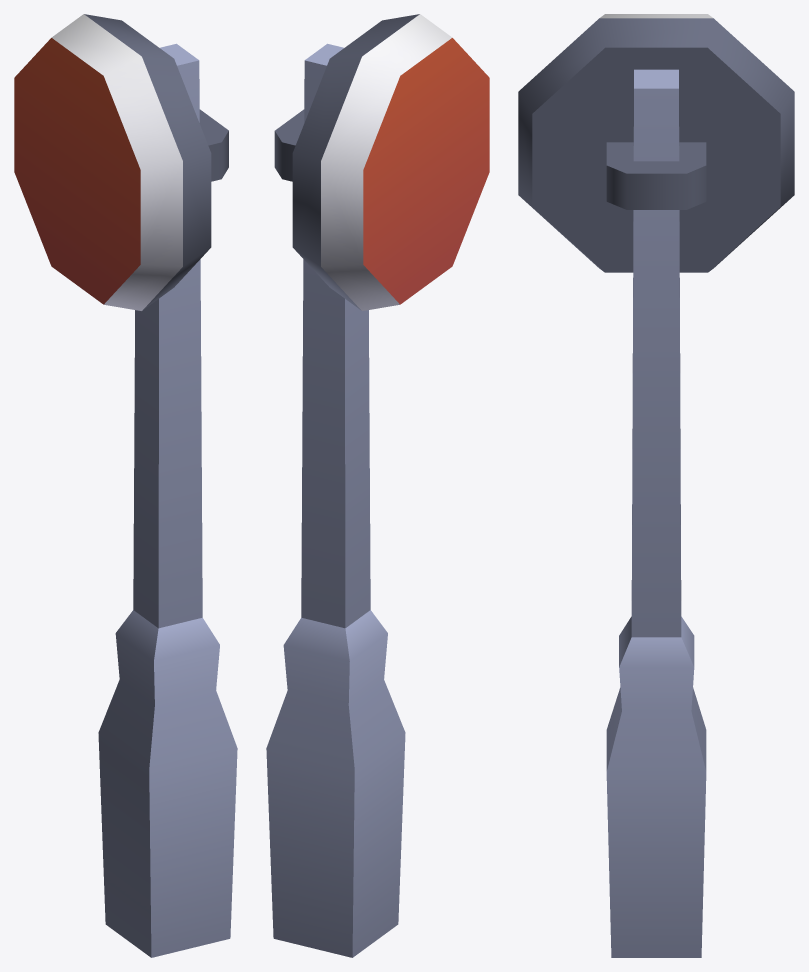
The model's file is road-sign-stop.glb.
3 renders of one model, left to right at view 1: azimuth 30°, elevation 25°; view 2: azimuth 150°, elevation 25°; view 3: azimuth 270°, elevation 25°, orthographic.
Parts seen in each view (by area): view 1: road-sign-stop; view 2: road-sign-stop; view 3: road-sign-stop.
Boxes of the visible parts, x1,y1,x2,y2 form: road-sign-stop: (14,14,237,957); road-sign-stop: (266,14,489,957); road-sign-stop: (518,14,794,957).
Bounding box in the file's own units: 0.0775 × 0.4941 × 0.1383.
Materials: 1 (1 with a texture image).
